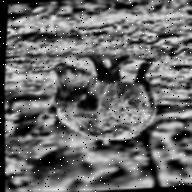boar: (38, 56, 168, 148)
